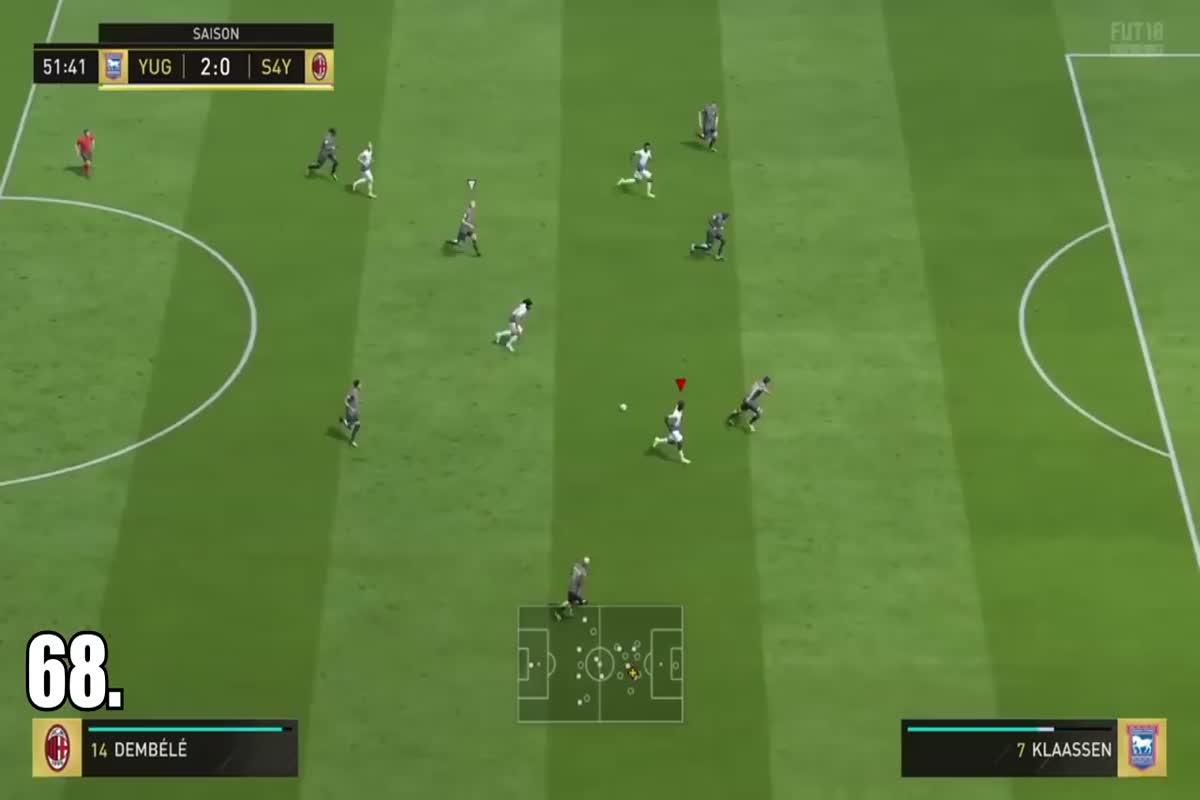ball: (611, 393, 638, 418)
